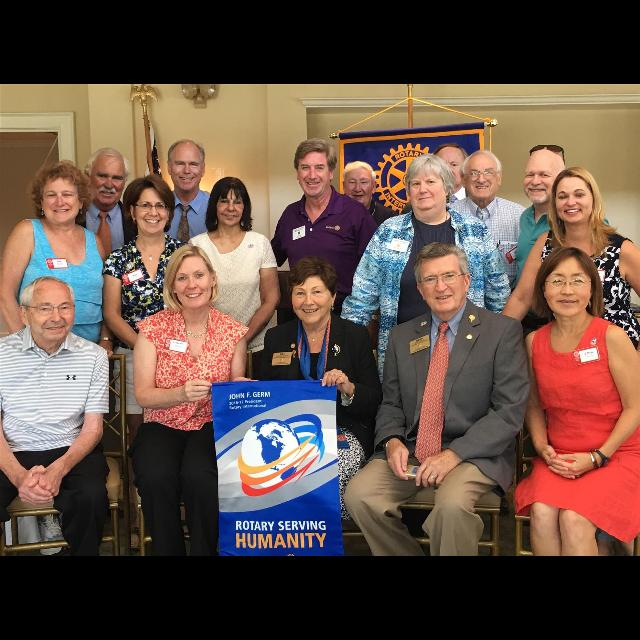head: (413, 241, 471, 313), (540, 246, 596, 318), (19, 279, 77, 341), (290, 259, 338, 325), (167, 247, 217, 309), (37, 164, 84, 224), (128, 180, 174, 236), (85, 148, 129, 206), (408, 156, 452, 212), (523, 149, 567, 205), (554, 168, 598, 224), (293, 140, 335, 198), (459, 150, 503, 200), (168, 140, 206, 192), (215, 177, 248, 230), (342, 162, 378, 208), (434, 144, 468, 188)
person: (338, 156, 510, 548), (401, 139, 512, 521), (262, 136, 383, 464), (99, 171, 197, 547), (180, 174, 284, 526), (504, 140, 616, 458), (140, 135, 238, 491), (426, 148, 536, 462), (60, 147, 154, 501), (316, 160, 406, 520)
